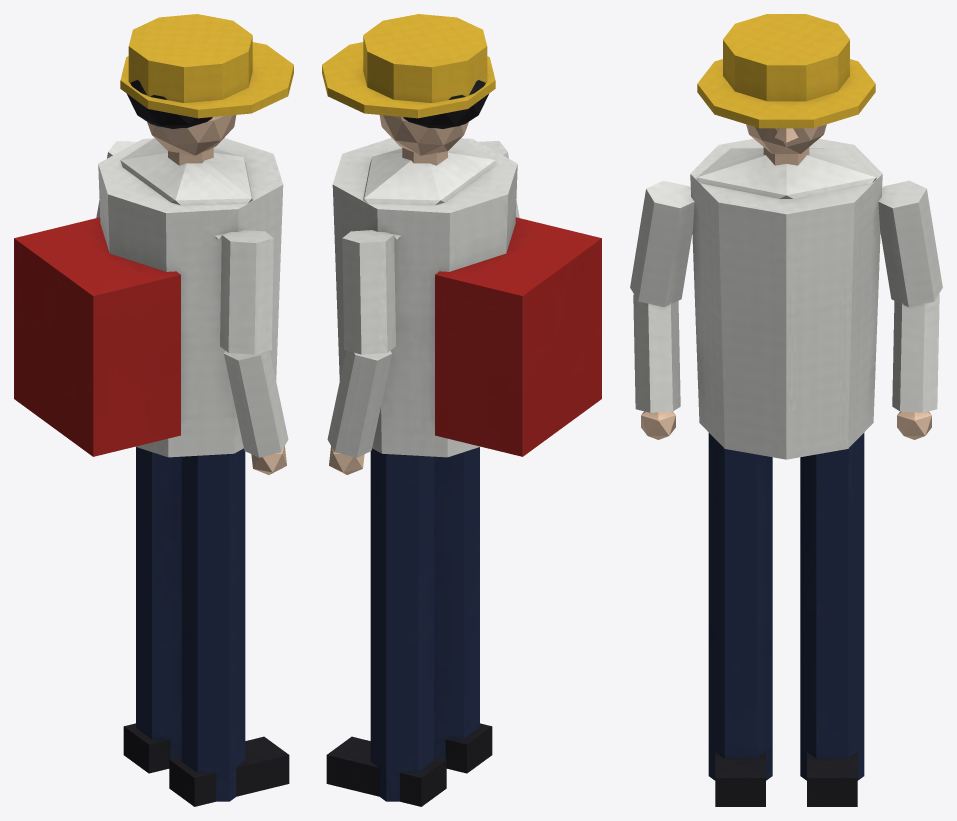
The model's file is skolbarn_tex.glb.
The picture shows the model from 3 angles, left to right: view 1: azimuth 30°, elevation 25°; view 2: azimuth 150°, elevation 25°; view 3: azimuth 270°, elevation 25°; orthographic projection.
Parts seen in each view (by area): view 1: skolbarn; view 2: skolbarn; view 3: skolbarn.
Boxes of the visible parts, x1,y1,x2,y2 form: skolbarn: (14, 14, 293, 806); skolbarn: (322, 14, 601, 806); skolbarn: (630, 14, 942, 806).
Size of the model in its own units: 0.4131 by 1.28 by 0.4915.
Materials: 7 (7 with a texture image).
